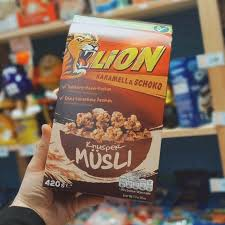cereals: (41, 14, 174, 202)
